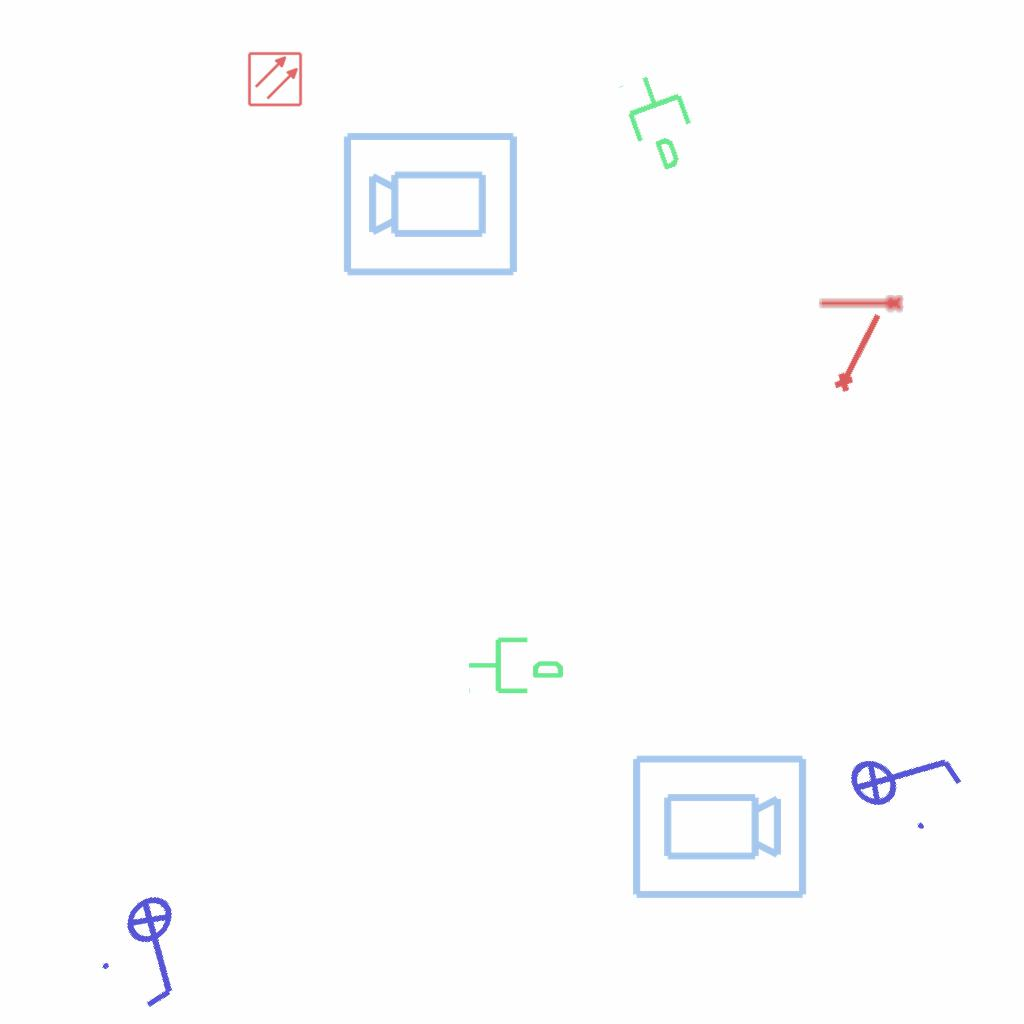ASR_Ansaugoeffnung: (827, 307, 889, 396), (817, 293, 905, 316)
Ausschalter_beleuchtet: (830, 701, 978, 849), (83, 876, 231, 1024)
Datenanschluss_einfach: (612, 62, 713, 180), (466, 629, 566, 698)
KFO_Kamera_mit_Festobjektiv: (340, 126, 522, 280), (628, 751, 810, 905)
RMO_Rauchmelder_optischer: (247, 51, 303, 107)
